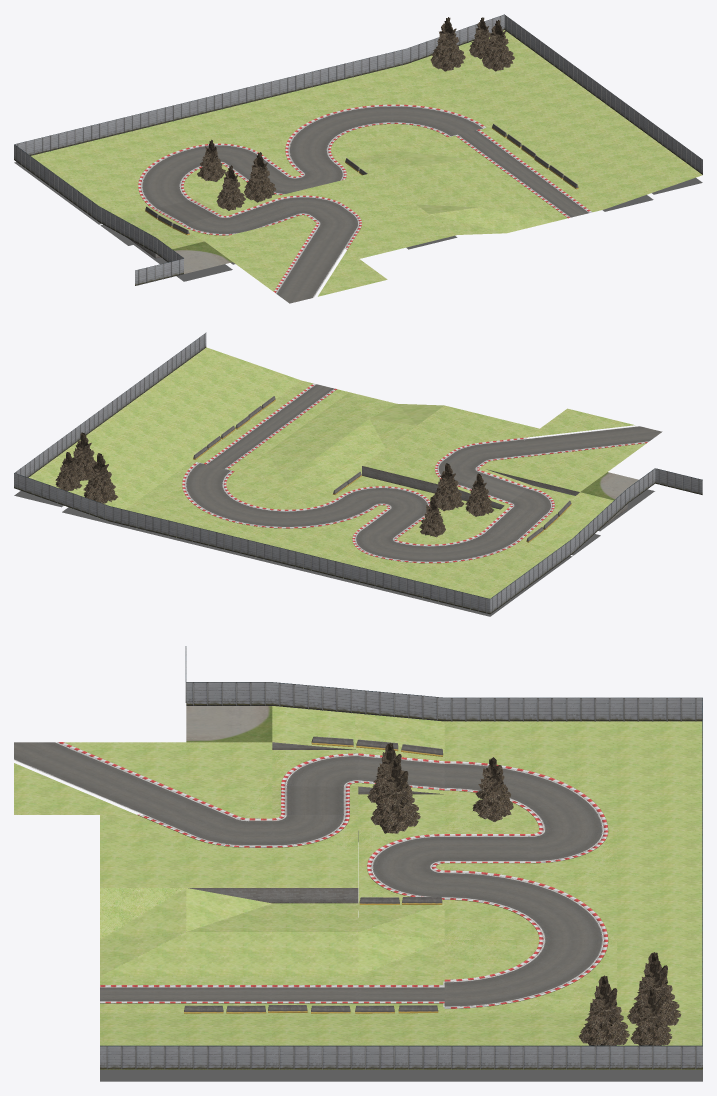
Rendered from map3.obj.
3 views of the same model, one above another, from view 1: azimuth 30°, elevation 25°; view 2: azimuth 150°, elevation 25°; view 3: azimuth 270°, elevation 25° (orthographic). The views are drawn at different scales.
Visible parts, largest first — view 1: map2.002; view 2: map2.002; view 3: map2.002.
Boxes of the visible parts, <box> form: map2.002: <box>14,14,702,303</box>; map2.002: <box>14,332,702,616</box>; map2.002: <box>14,646,702,1081</box>.
Size of the model in its own units: 711 by 83.7 by 517.
Materials: 11 (9 with a texture image).
